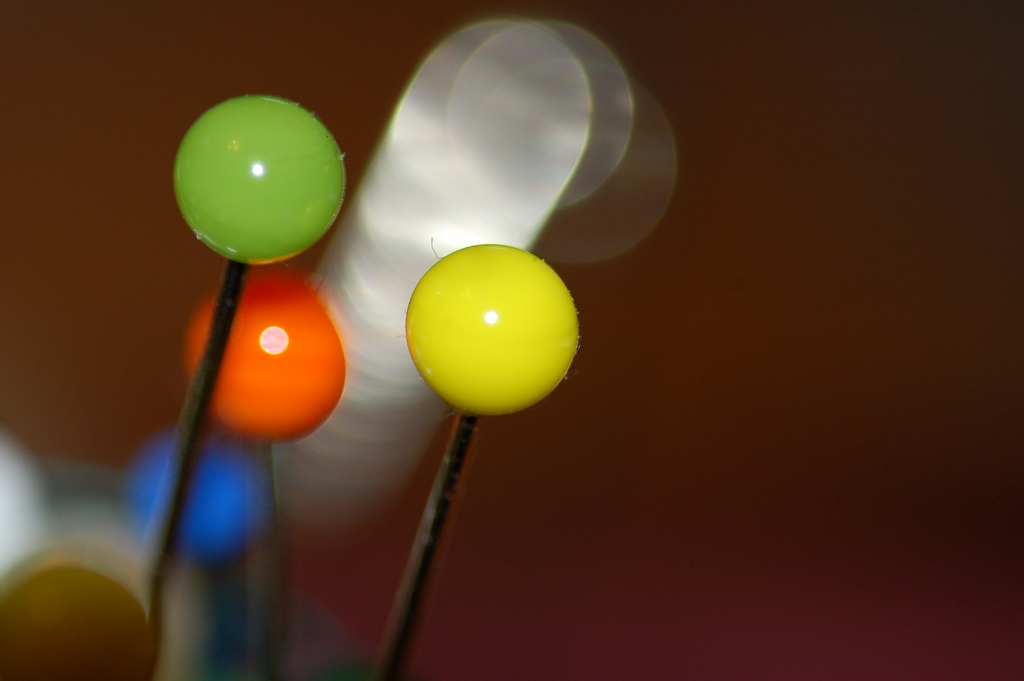Ball: (399, 243, 578, 418), (176, 96, 343, 268), (180, 270, 336, 444), (129, 431, 261, 566), (0, 568, 159, 680)
